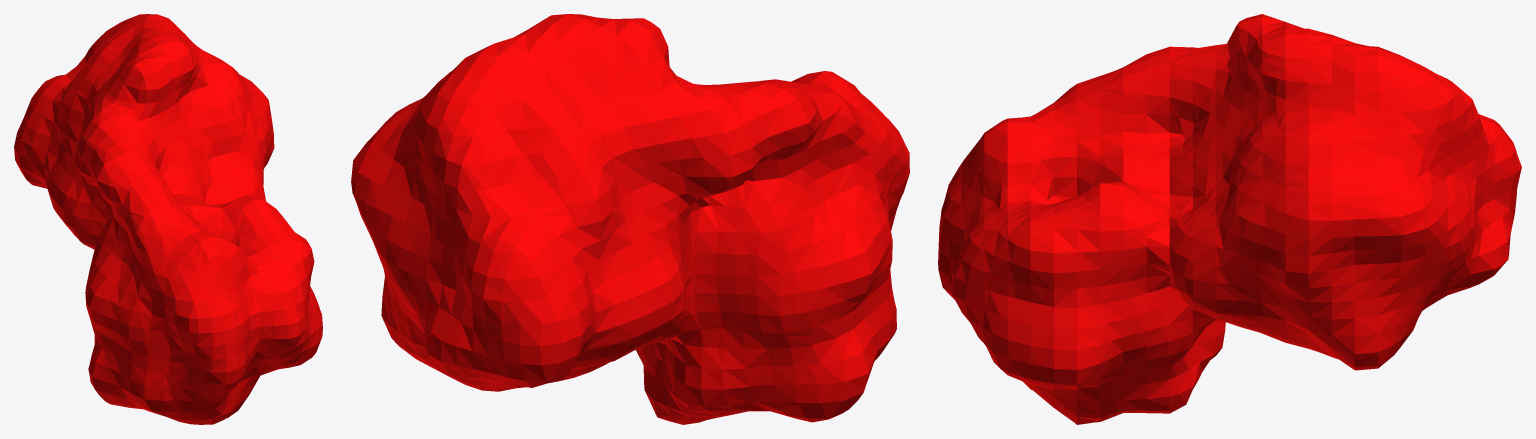
File: ilvG_coarse.dae
3 views of the same model, side by side, from view 1: azimuth 30°, elevation 25°; view 2: azimuth 150°, elevation 25°; view 3: azimuth 270°, elevation 25° (orthographic). The views are drawn at different scales.
Parts seen in each view (by area): view 1: ilvG; view 2: ilvG; view 3: ilvG.
Boxes of the visible parts, x1,y1,x2,y2 form: ilvG: (14,14,322,424); ilvG: (351,14,909,424); ilvG: (938,14,1521,424).
Size of the model in its own units: 47.9 by 56.92 by 74.04.
